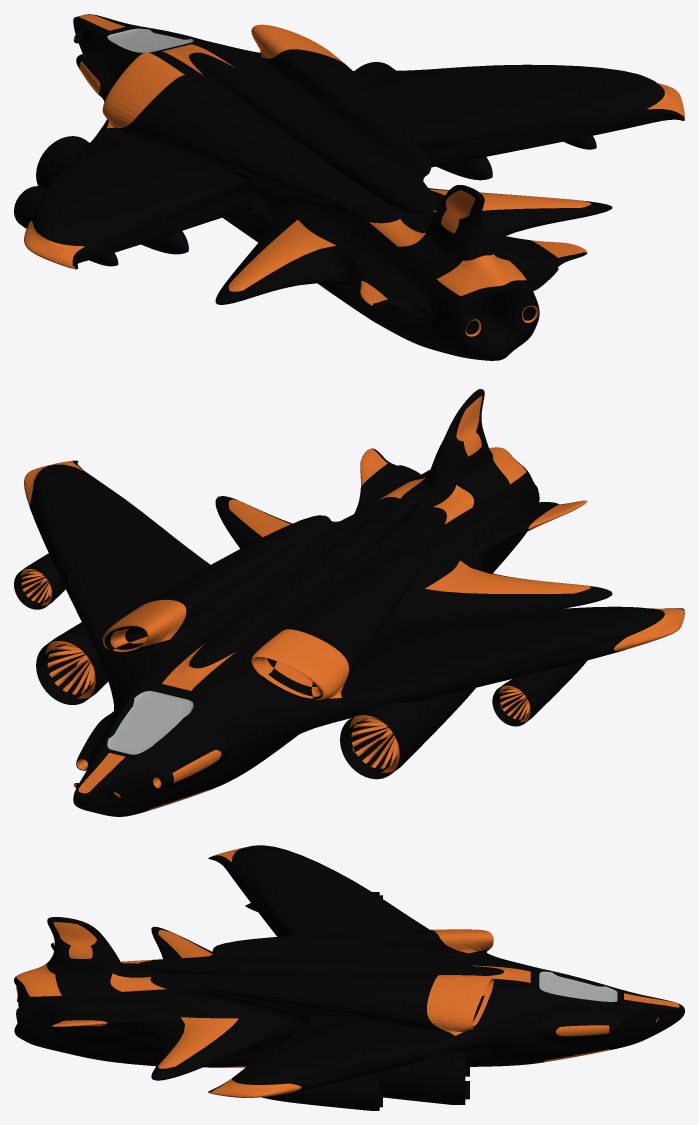
Rendered from Nave.glb.
3 views of the same model, one above another, from view 1: azimuth 30°, elevation 25°; view 2: azimuth 150°, elevation 25°; view 3: azimuth 270°, elevation 25° (orthographic). The views are drawn at different scales.
Parts seen in each view (by area): view 1: Cubo; view 2: Cubo; view 3: Cubo.
Boxes of the visible parts, bbox=[...] form: Cubo: bbox=[14, 14, 684, 360]; Cubo: bbox=[14, 389, 684, 816]; Cubo: bbox=[14, 845, 684, 1110].
Bounding box in the file's own units: 15.36 × 4.03 × 17.45.
